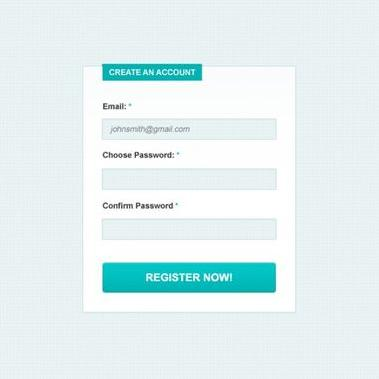button: (101, 261, 275, 293)
field: (101, 116, 277, 141), (101, 166, 277, 191), (100, 218, 277, 241)
field_with_label: (99, 150, 280, 192), (99, 102, 279, 142), (98, 202, 279, 241)
